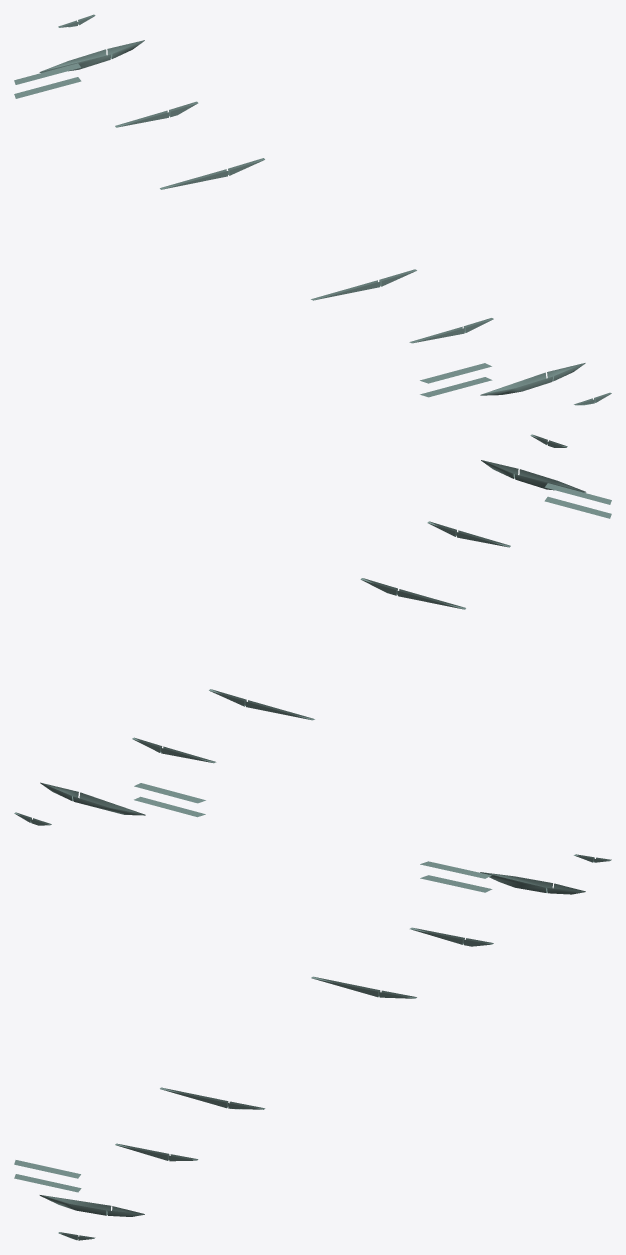
Rendered from m_jet_c0c48ad0.glb.
3 views of the same model, one above another, from view 1: azimuth 30°, elevation 25°; view 2: azimuth 150°, elevation 25°; view 3: azimuth 330°, elevation 25° (orthographic).
Visible parts, largest first — view 1: mesh; view 2: mesh; view 3: mesh.
Part boxes in pixels (<box>): mesh: <box>14,14,611,405</box>; mesh: <box>14,434,611,825</box>; mesh: <box>14,854,611,1240</box>.
Bounding box in the file's own units: 1650 × 223 × 10005.
